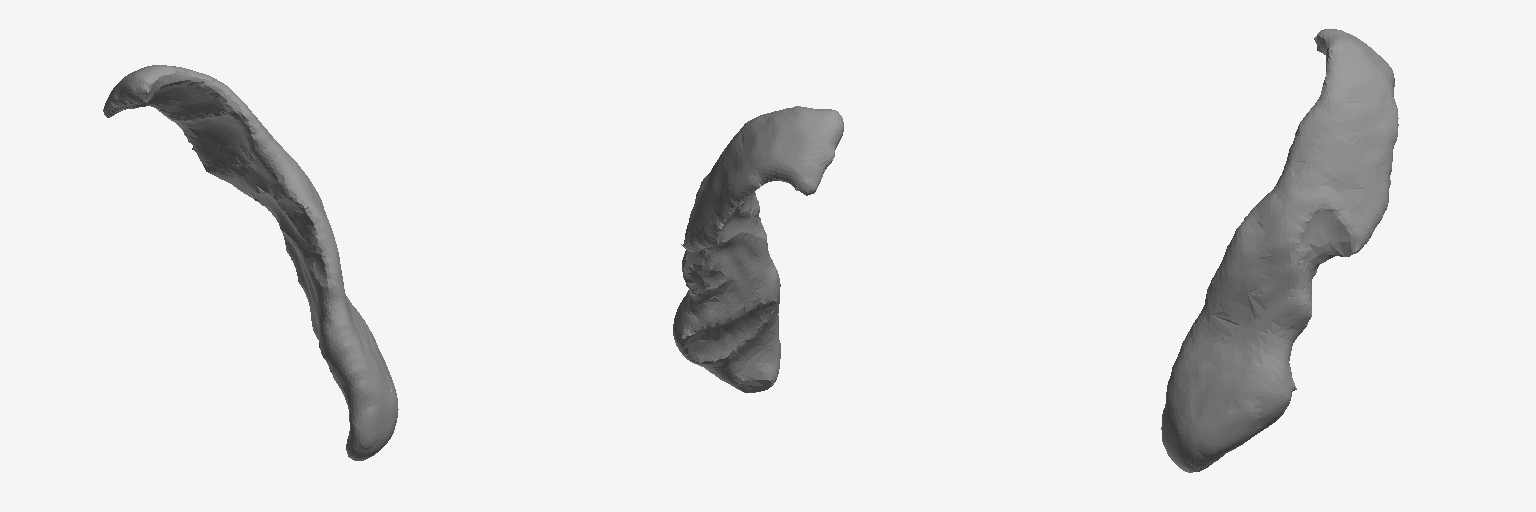
Rendered from Model_712_RH__Middle_cerebellar_peduncle_(mcp).obj.
The picture shows the model from 3 angles: view 1: azimuth 30°, elevation 25°; view 2: azimuth 150°, elevation 25°; view 3: azimuth 270°, elevation 25°; orthographic projection.
Bounding box in the file's own units: 4.98 × 8.38 × 4.89.